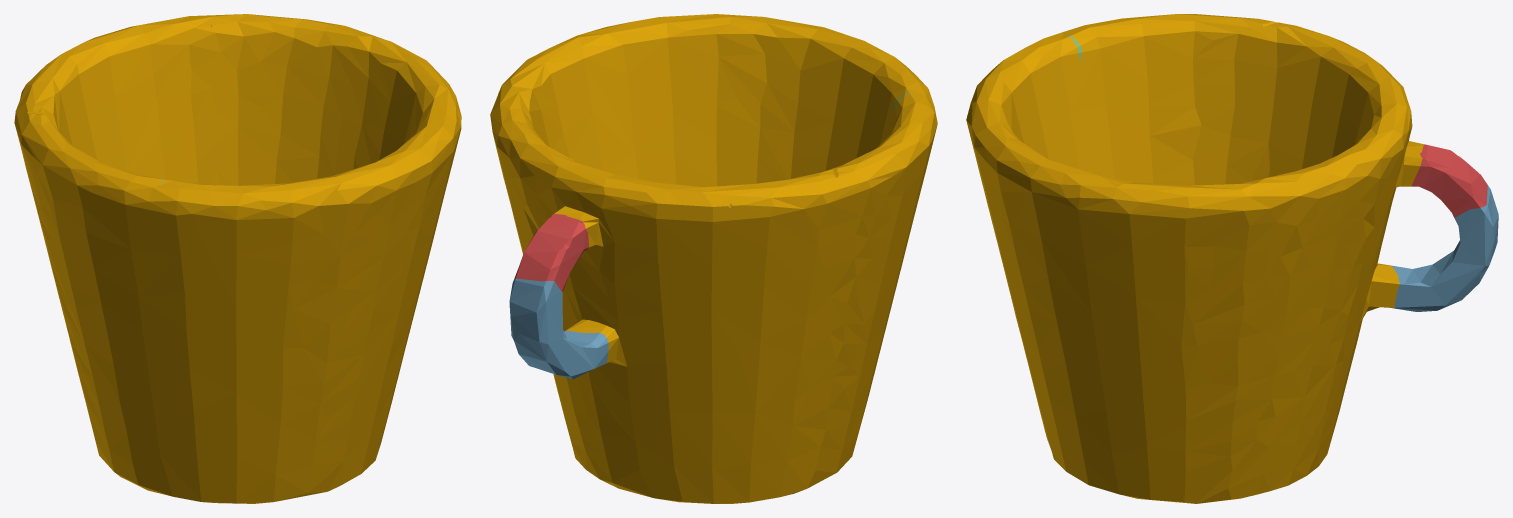
Rendered from fractured_71_4pcs.glb.
3 views of the same model, side by side, from view 1: azimuth 30°, elevation 25°; view 2: azimuth 150°, elevation 25°; view 3: azimuth 270°, elevation 25° (orthographic).
Visible parts, largest first — view 1: piece_0.obj; view 2: piece_0.obj, piece_2.obj, piece_1.obj; view 3: piece_0.obj, piece_2.obj, piece_1.obj.
Boxes of the visible parts, x1=… form: piece_0.obj: x1=14, y1=14, x2=461, y2=503; piece_0.obj: x1=490, y1=14, x2=937, y2=503; piece_2.obj: x1=509, y1=277, x2=608, y2=379; piece_1.obj: x1=515, y1=213, x2=588, y2=292; piece_0.obj: x1=966, y1=14, x2=1423, y2=503; piece_2.obj: x1=1392, y1=184, x2=1498, y2=311; piece_1.obj: x1=1412, y1=144, x2=1487, y2=217.
Size of the model in its own units: 0.8382 by 0.7127 by 1.
